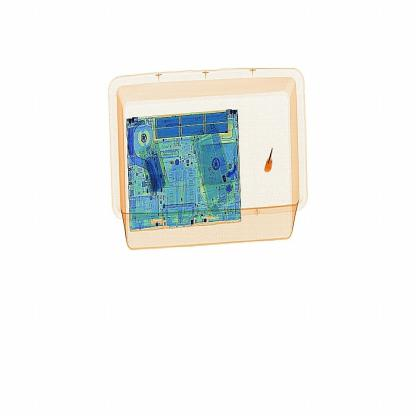wrench: (260, 142, 282, 182)
